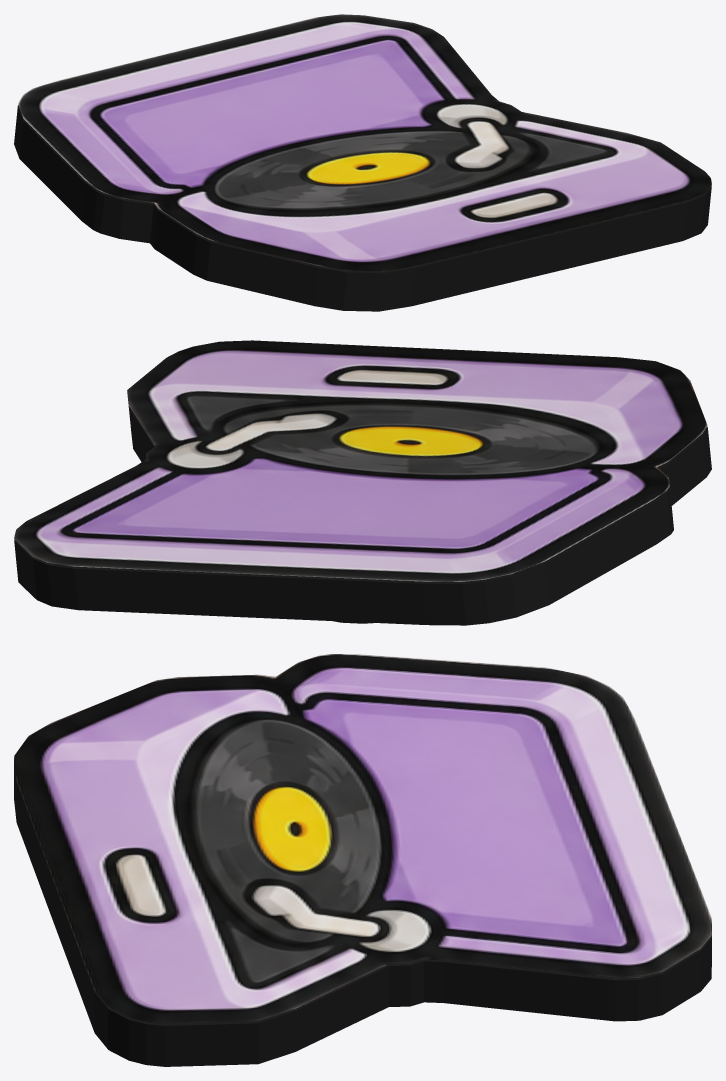
File: music-record-player.glb
The picture shows the model from 3 angles, top to bottom: view 1: azimuth 30°, elevation 25°; view 2: azimuth 150°, elevation 25°; view 3: azimuth 270°, elevation 25°; orthographic projection. The views are drawn at different scales.
Visible parts, largest first — view 1: MUSIC_Record_Player_MODEL; view 2: MUSIC_Record_Player_MODEL; view 3: MUSIC_Record_Player_MODEL.
Boxes of the visible parts, left/top/right/bottom form: MUSIC_Record_Player_MODEL: left=14, top=14, right=711, bottom=311; MUSIC_Record_Player_MODEL: left=14, top=340, right=711, bottom=625; MUSIC_Record_Player_MODEL: left=14, top=654, right=711, bottom=1066.
Bounding box in the file's own units: 0.3825 × 0.1026 × 0.3723.
Materials: 3 (1 with a texture image).
